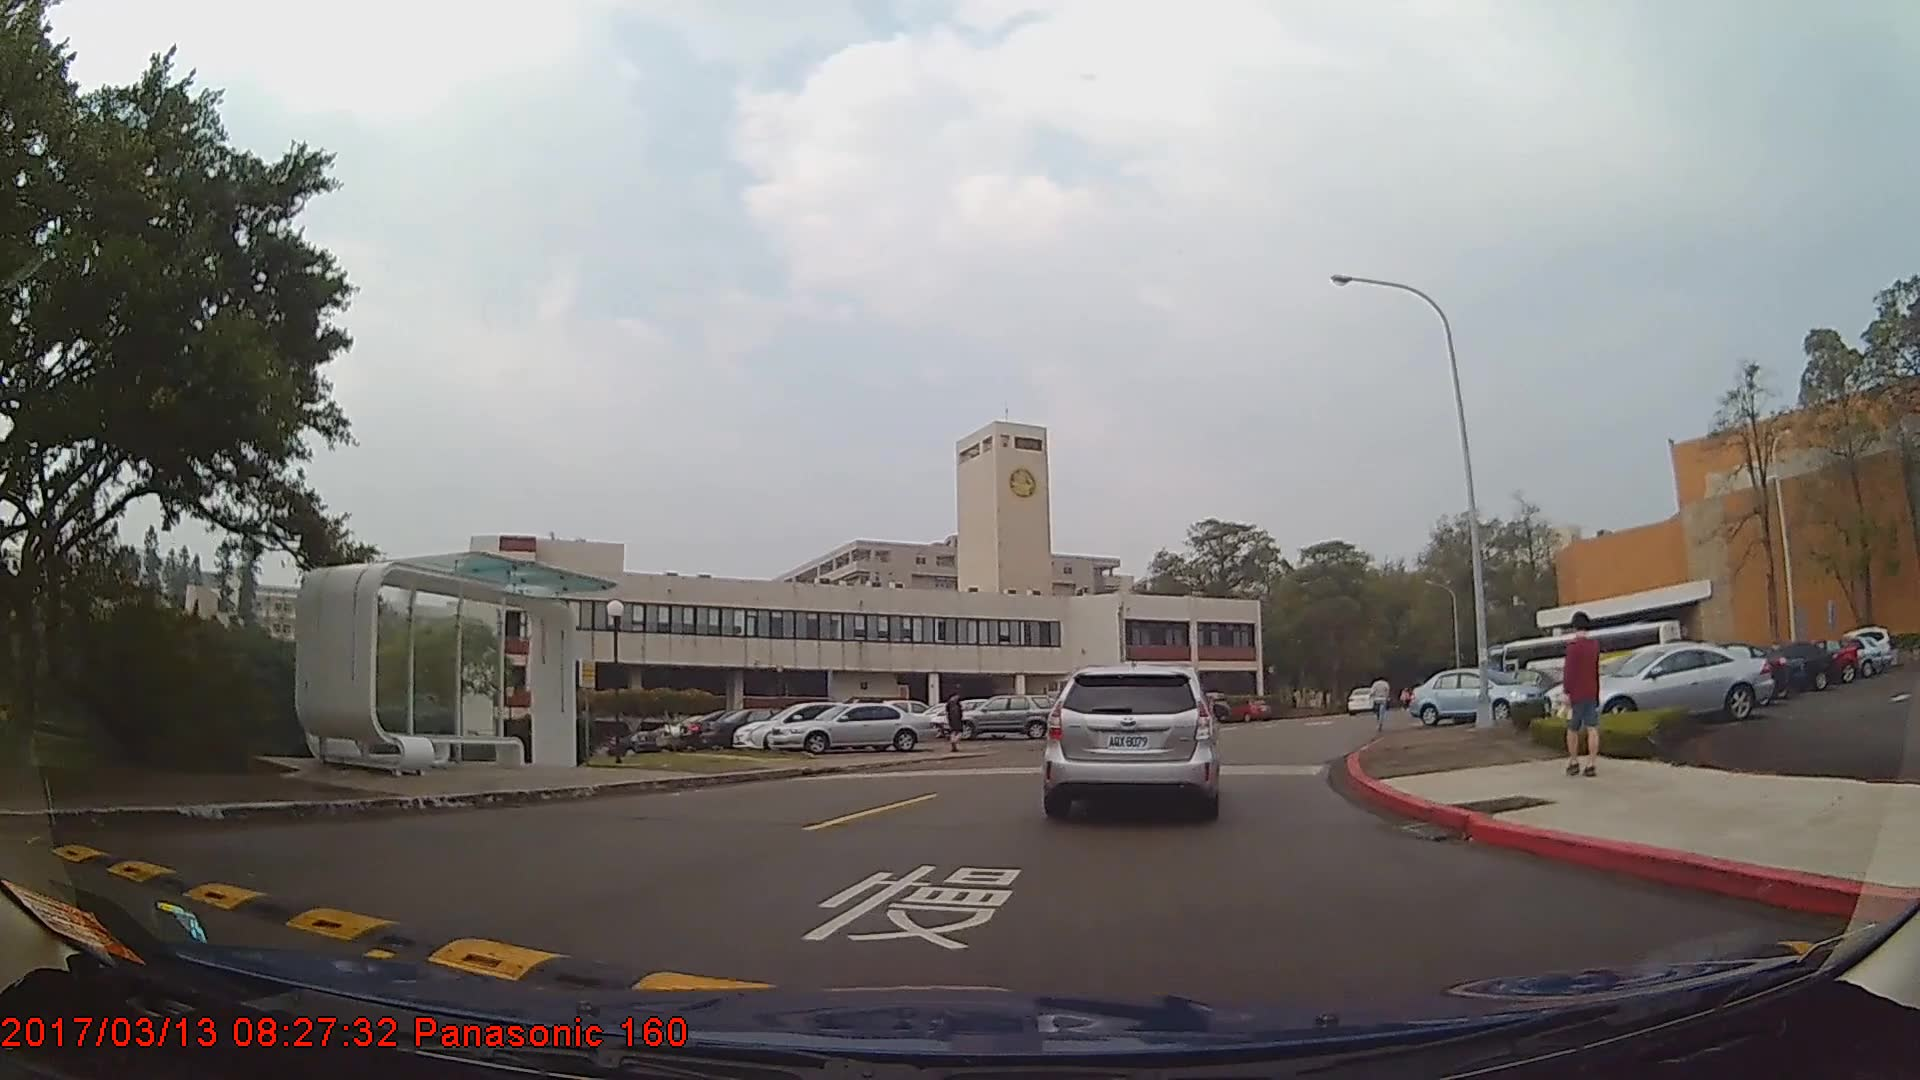pedestrian: (1553, 614, 1606, 780), (1369, 671, 1392, 734), (947, 690, 968, 756)
vehicle: (1046, 665, 1217, 819), (1557, 642, 1771, 727), (769, 701, 936, 755), (728, 698, 892, 748), (1405, 669, 1544, 726), (1687, 646, 1805, 699), (1726, 641, 1835, 693), (945, 693, 1061, 739), (699, 705, 817, 747), (1346, 687, 1381, 717)
